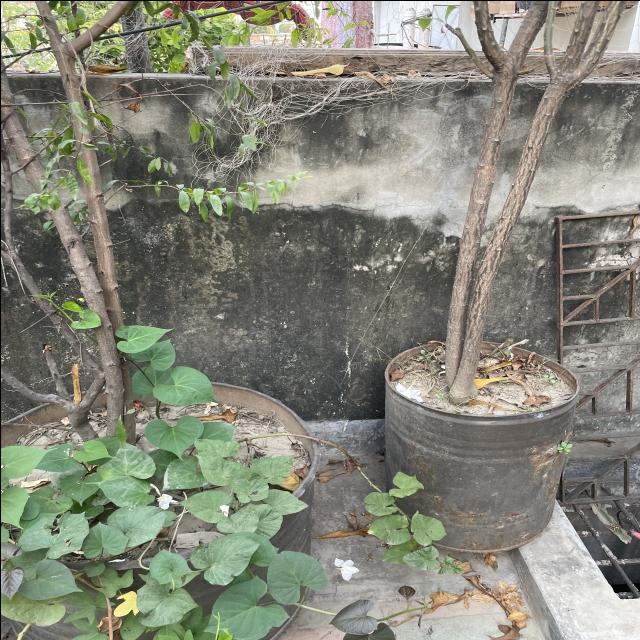Breeding Place: (0, 370, 316, 551), (374, 328, 582, 419)
